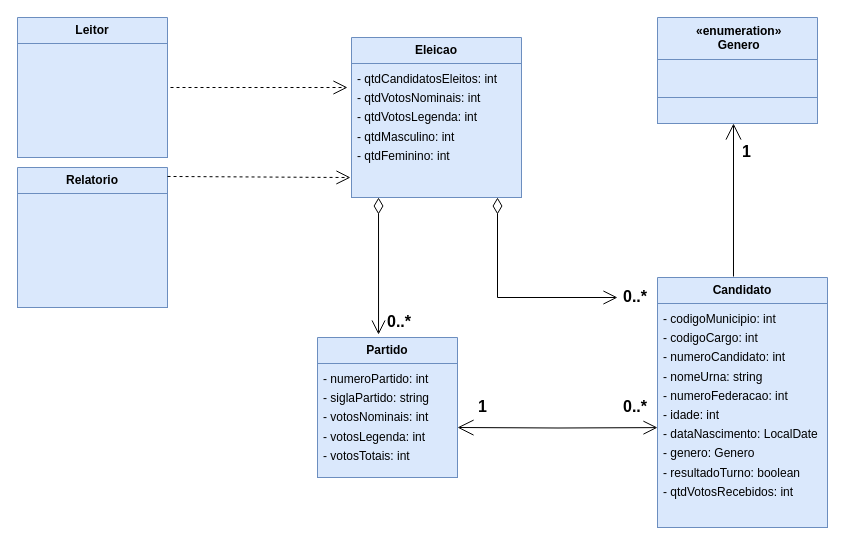
Image size: 845x548. Some labels were removed from this diagram. Here are the shapes that lost their labels. From the top down, the centre of each, then its label:
point (737, 78): MASCULINO FEMININO
point (737, 110): codigo: int
